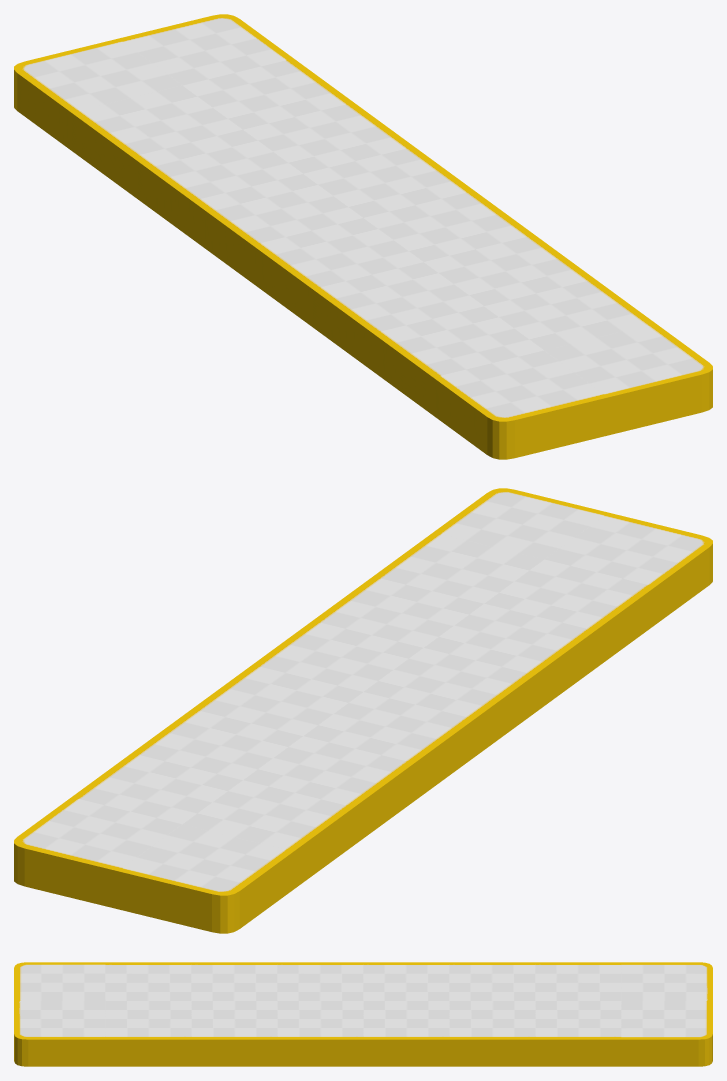
Rendered from TilePlatform.glb.
3 renders of one model, top to bottom at view 1: azimuth 30°, elevation 25°; view 2: azimuth 150°, elevation 25°; view 3: azimuth 270°, elevation 25°, orthographic. The views are drawn at different scales.
Parts seen in each view (by area): view 1: tile_top_right_Clone_, tile_top_left_Clone_, tile_bottom_right_Clone_, tile_right_Clone__1, tile_right_Clone__4, tile_right_Clone__5, tile_right_Clone__2, tile_right_Clone__3, tile_right_Clone_, tile_left_bottom_Clone_, tile_left_Clone__4, tile_left_Clone__5 (+4 smaller); view 2: tile_bottom_right_Clone_, tile_left_bottom_Clone_, tile_top_right_Clone_, tile_right_Clone__3, tile_right_Clone__4, tile_right_Clone_, tile_right_Clone__5, tile_right_Clone__2, tile_right_Clone__1, tile_top_left_Clone_, tile_left_Clone__5, tile_left_Clone__1 (+4 smaller); view 3: tile_left_bottom_Clone_, tile_top_left_Clone_, tile_left_Clone_, tile_left_Clone__1, tile_left_Clone__2, tile_left_Clone__3, tile_left_Clone__4, tile_left_Clone__5, tile_bottom_right_Clone_, tile_top_right_Clone_, tile_right_Clone_, tile_right_Clone__1 (+4 smaller).
Part boxes in pixels (x1,y1,x2,y2): tile_top_right_Clone_: [433, 350, 608, 459]; tile_top_left_Clone_: [545, 323, 712, 435]; tile_bottom_right_Clone_: [14, 38, 182, 150]; tile_right_Clone__1: [131, 129, 302, 238]; tile_right_Clone__4: [312, 262, 483, 370]; tile_right_Clone__5: [372, 306, 543, 414]; tile_right_Clone__2: [192, 174, 362, 282]; tile_right_Clone__3: [252, 218, 423, 326]; tile_right_Clone_: [71, 85, 241, 194]; tile_left_bottom_Clone_: [118, 14, 293, 85]; tile_left_Clone__4: [424, 235, 594, 305]; tile_left_Clone__5: [484, 279, 654, 350]; tile_bottom_right_Clone_: [118, 824, 293, 933]; tile_left_bottom_Clone_: [14, 797, 182, 909]; tile_top_right_Clone_: [545, 512, 712, 624]; tile_right_Clone__3: [363, 648, 534, 756]; tile_right_Clone__4: [424, 604, 595, 712]; tile_right_Clone_: [182, 780, 354, 888]; tile_right_Clone__5: [484, 559, 655, 668]; tile_right_Clone__2: [303, 692, 474, 800]; tile_right_Clone__1: [243, 736, 414, 844]; tile_top_left_Clone_: [433, 488, 607, 559]; tile_left_Clone__5: [373, 532, 543, 603]; tile_left_Clone__1: [132, 709, 302, 779]; tile_left_bottom_Clone_: [621, 1001, 712, 1066]; tile_top_left_Clone_: [14, 1001, 105, 1066]; tile_left_Clone_: [535, 1001, 621, 1066]; tile_left_Clone__1: [449, 1001, 535, 1066]; tile_left_Clone__2: [363, 1001, 449, 1066]; tile_left_Clone__3: [277, 1001, 363, 1066]; tile_left_Clone__4: [191, 1001, 277, 1066]; tile_left_Clone__5: [105, 1001, 191, 1066]; tile_bottom_right_Clone_: [621, 962, 712, 1000]; tile_top_right_Clone_: [14, 962, 105, 1000]; tile_right_Clone_: [535, 962, 621, 1000]; tile_right_Clone__1: [449, 962, 535, 1000].
Size of the model in its own units: 14.48 by 2.37 by 55.28.
1 material, 1 textured.
